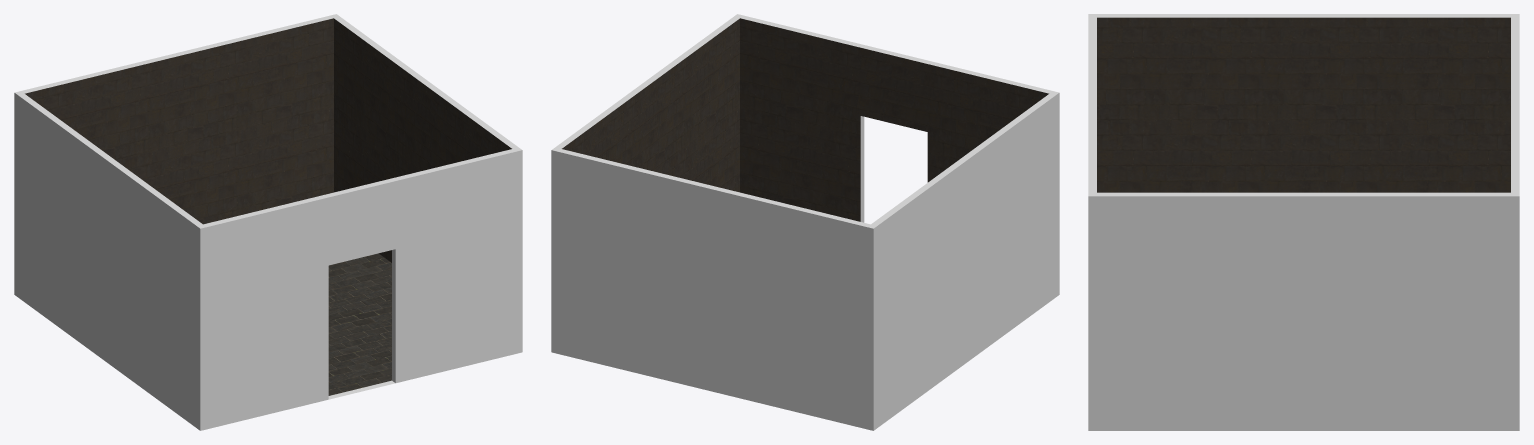
The model's file is stens.fbx.
3 renders of one model, left to right at view 1: azimuth 30°, elevation 25°; view 2: azimuth 150°, elevation 25°; view 3: azimuth 270°, elevation 25°, orthographic. The views are drawn at different scales.
Parts seen in each view (by area): view 1: Plane.004; view 2: Plane.004; view 3: Plane.004.
Part boxes in pixels (bbox=[...]): Plane.004: bbox=[14, 14, 522, 430]; Plane.004: bbox=[551, 14, 1059, 430]; Plane.004: bbox=[1088, 14, 1519, 430].
Size of the model in its own units: 500 by 300 by 500.
